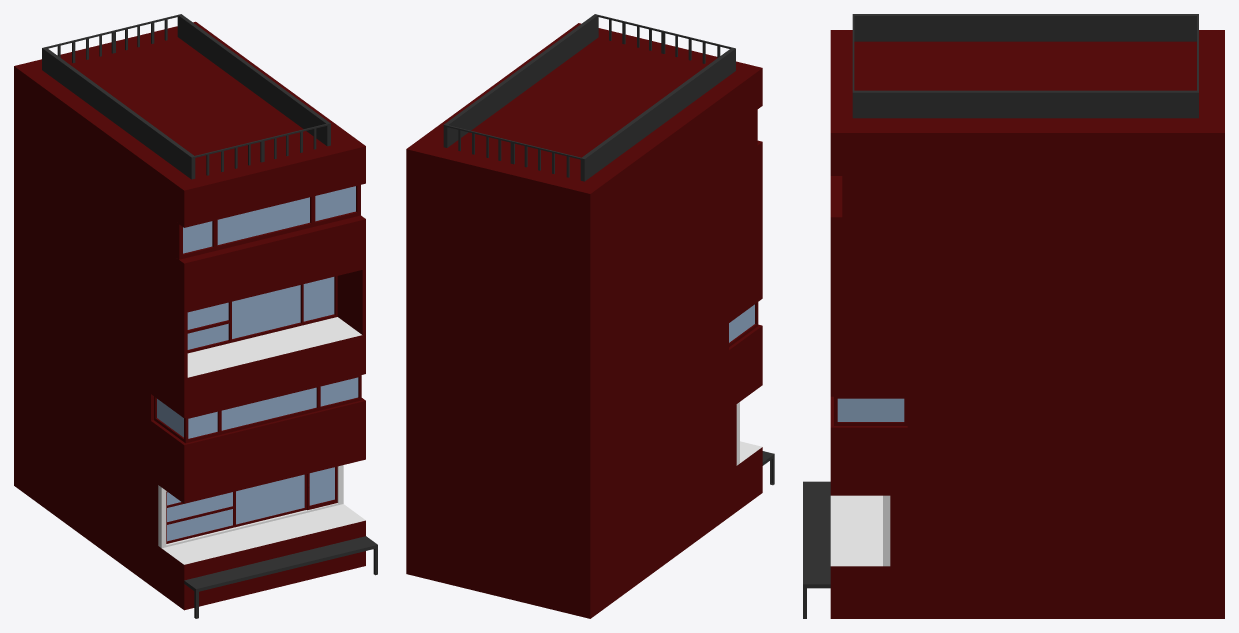
Rendered from modernGrachtHuis1textured.fbx.
3 renders of one model, left to right at view 1: azimuth 30°, elevation 25°; view 2: azimuth 150°, elevation 25°; view 3: azimuth 270°, elevation 25°, orthographic. The views are drawn at different scales.
Visible parts, largest first — view 1: Plane, Plane.010, Plane.003, Plane.001, Plane.004, Plane.006, Plane.002, Plane.009, Plane.005, Plane.007; view 2: Plane, Plane.010, Plane.002, Plane.004; view 3: Plane, Plane.010, Plane.002, Plane.009, Plane.004, Plane.005.
Part boxes in pixels (left/top/right/bottom): Plane: left=14, top=21, right=365, bottom=610; Plane.010: left=42, top=14, right=330, bottom=179; Plane.003: left=187, top=276, right=337, bottom=353; Plane.001: left=176, top=185, right=360, bottom=259; Plane.004: left=154, top=375, right=361, bottom=443; Plane.006: left=166, top=474, right=306, bottom=543; Plane.002: left=151, top=269, right=365, bottom=378; Plane.009: left=184, top=536, right=377, bottom=618; Plane.005: left=158, top=465, right=343, bottom=548; Plane.007: left=307, top=466, right=337, bottom=510; Plane: left=406, top=23, right=762, bottom=618; Plane.010: left=443, top=14, right=735, bottom=181; Plane.002: left=729, top=192, right=762, bottom=282; Plane.004: left=729, top=302, right=758, bottom=346; Plane: left=830, top=30, right=1224, bottom=618; Plane.010: left=852, top=14, right=1198, bottom=118; Plane.002: left=830, top=275, right=907, bottom=350; Plane.009: left=803, top=481, right=830, bottom=618; Plane.004: left=834, top=396, right=907, bottom=425; Plane.005: left=883, top=495, right=890, bottom=566.
Bounding box in the file's own units: 107 × 249 × 186.
